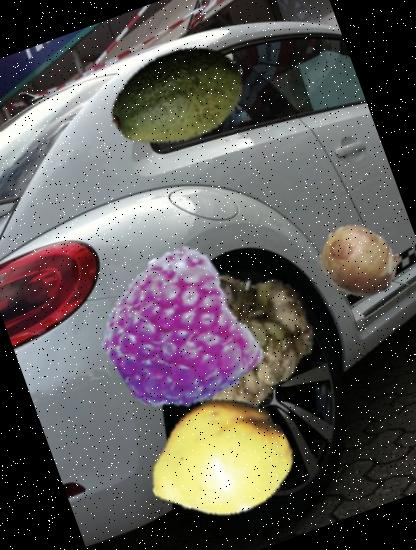Avocado: (86, 5, 268, 187)
Cauliflower: (149, 238, 334, 424)
Onion: (308, 209, 411, 312)
Quince: (125, 367, 310, 550)
Raspberry: (79, 238, 271, 430)
